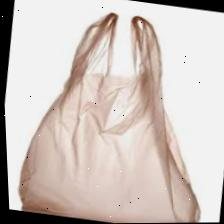plastic: (2, 0, 224, 224)
